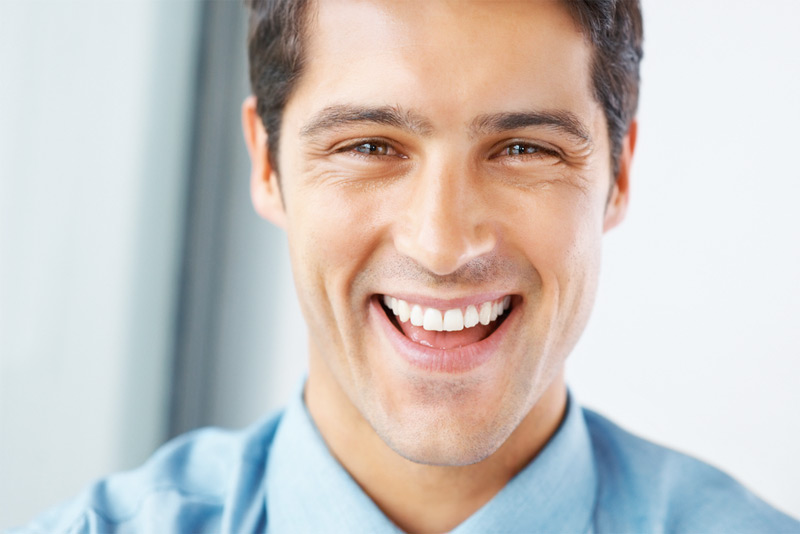shoot: (364, 289, 528, 369)
